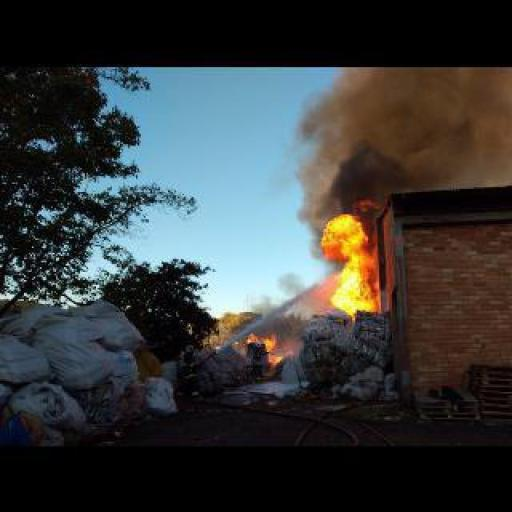smoke: (294, 64, 510, 218), (318, 213, 382, 310), (243, 331, 283, 363)
